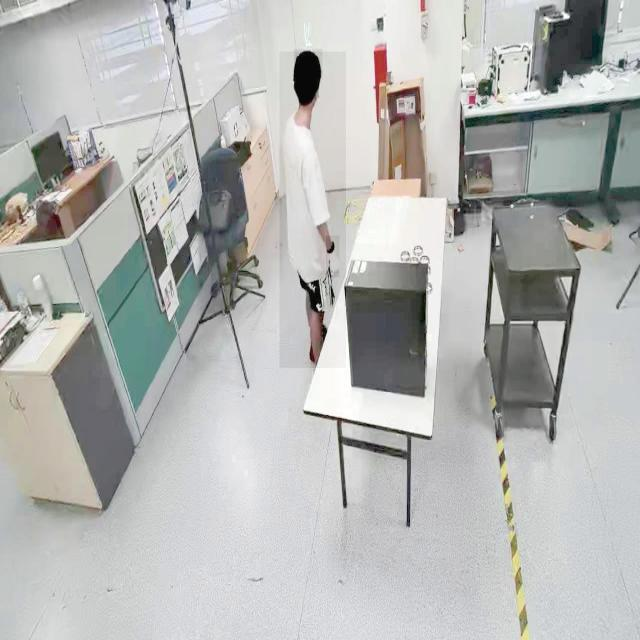hand_glove: (326, 236, 340, 278)
head_nohelmet: (294, 49, 322, 77)
person: (279, 51, 346, 369)
